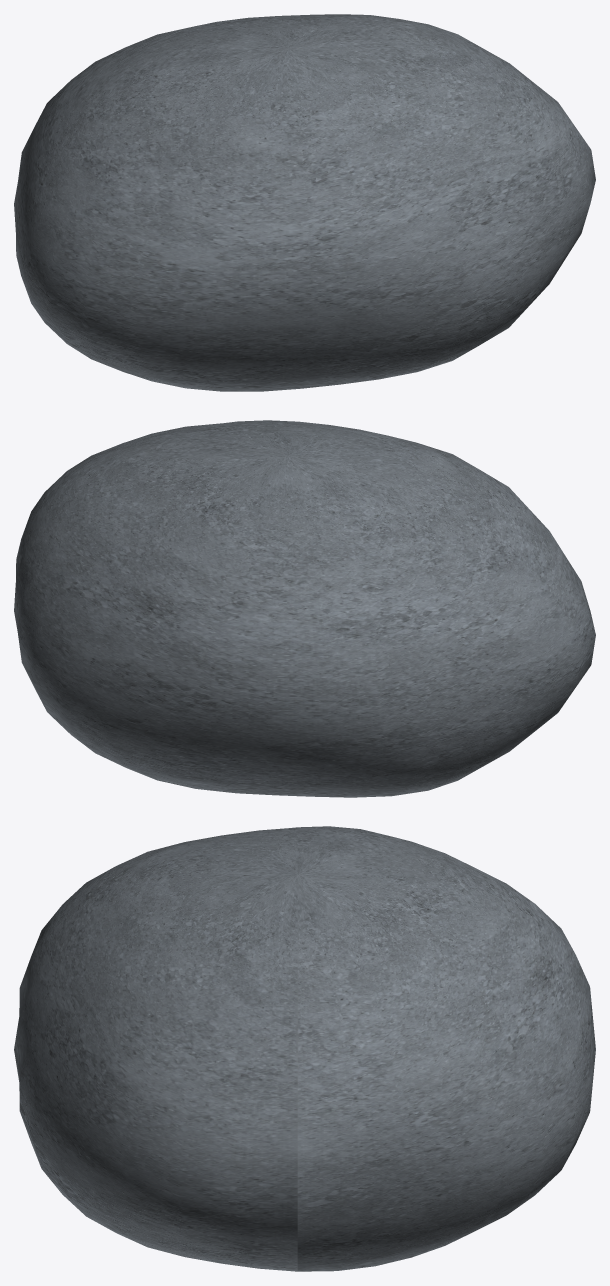
The model's file is guti_pebble_dark.glb.
3 renders of one model, top to bottom at view 1: azimuth 30°, elevation 25°; view 2: azimuth 150°, elevation 25°; view 3: azimuth 270°, elevation 25°, orthographic. The views are drawn at different scales.
Parts seen in each view (by area): view 1: guti_pebble_dark; view 2: guti_pebble_dark; view 3: guti_pebble_dark.
Boxes of the visible parts, x1,y1,x2,y2 form: guti_pebble_dark: [14, 14, 595, 391]; guti_pebble_dark: [14, 420, 595, 797]; guti_pebble_dark: [14, 826, 595, 1271].
Bounding box in the file's own units: 0.025 × 0.012 × 0.021.
1 material, 1 textured.
